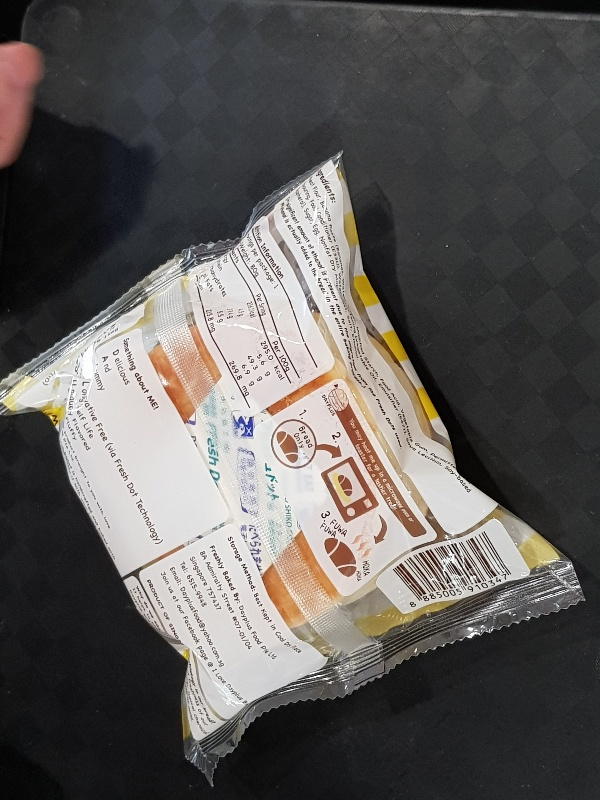Dayplus Banana: (2, 147, 585, 780)
